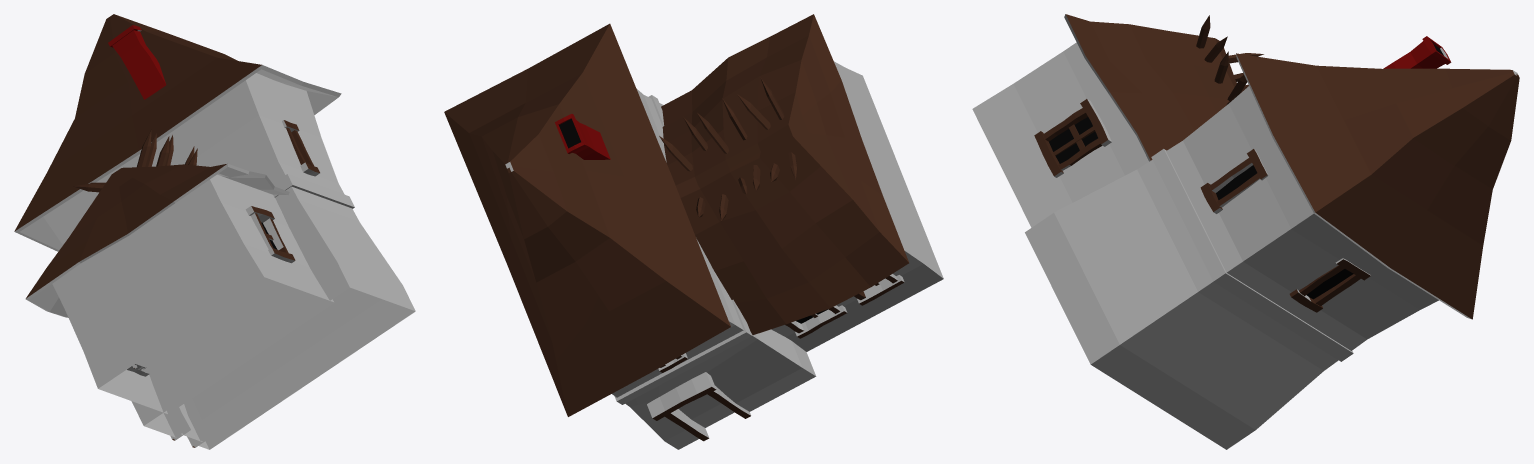
The model's file is vikingcommandpost.fbx.
3 renders of one model, left to right at view 1: azimuth 30°, elevation 25°; view 2: azimuth 150°, elevation 25°; view 3: azimuth 270°, elevation 25°, orthographic. The views are drawn at different scales.
Visible parts, largest first — view 1: pCube92; view 2: pCube92; view 3: pCube92.
Boxes of the visible parts, <box> form: pCube92: <box>14,14,415,449</box>; pCube92: <box>444,14,943,449</box>; pCube92: <box>972,14,1519,449</box>.
Bounding box in the file's own units: 201 × 193 × 224.
